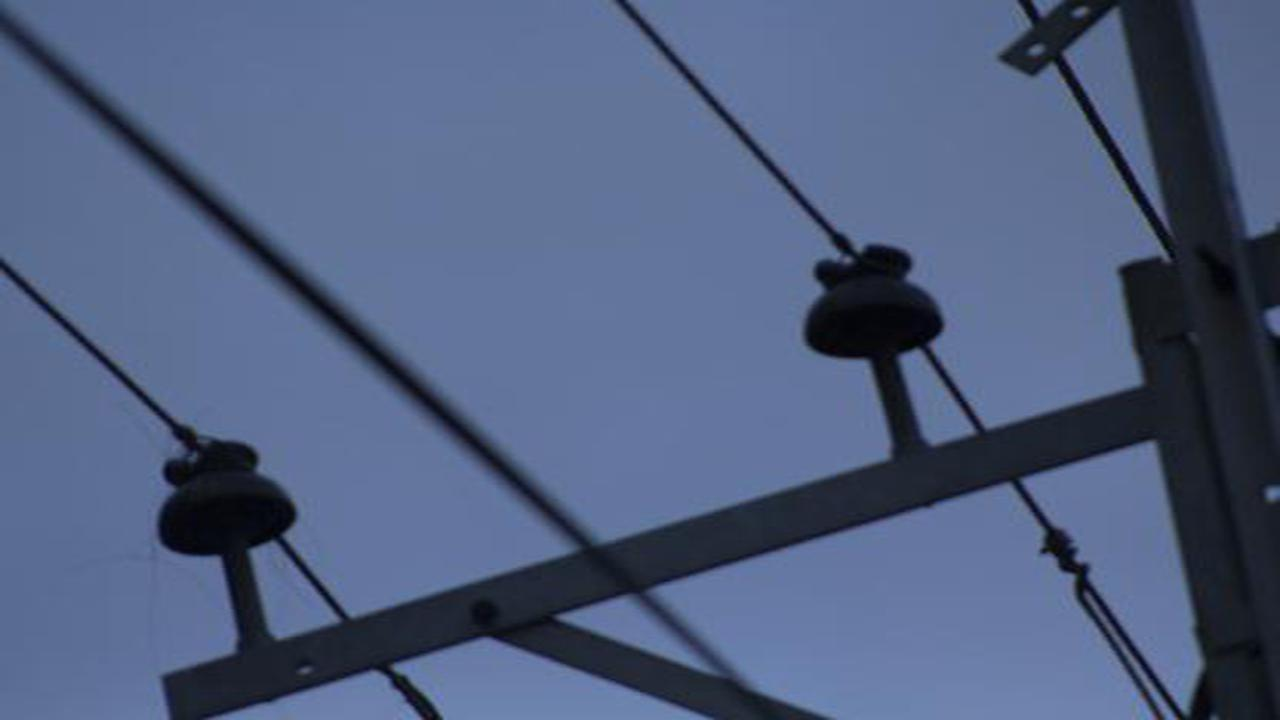insulator_pin: (147, 433, 299, 565), (803, 243, 950, 364)
